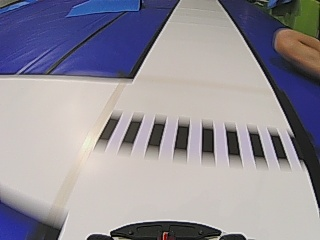CrossWalk: (97, 114, 289, 160)
